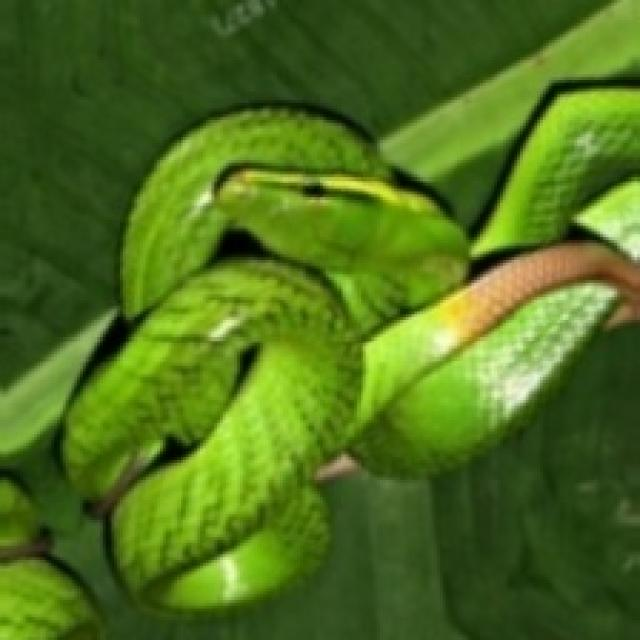red-tailed green ratsnake: (63, 89, 637, 609)
